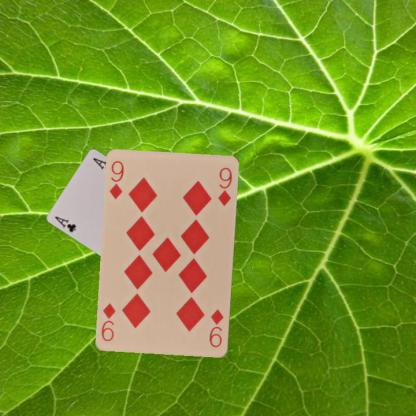9d: (207, 307, 225, 349), (107, 158, 125, 200)
Ac: (52, 214, 78, 234)
